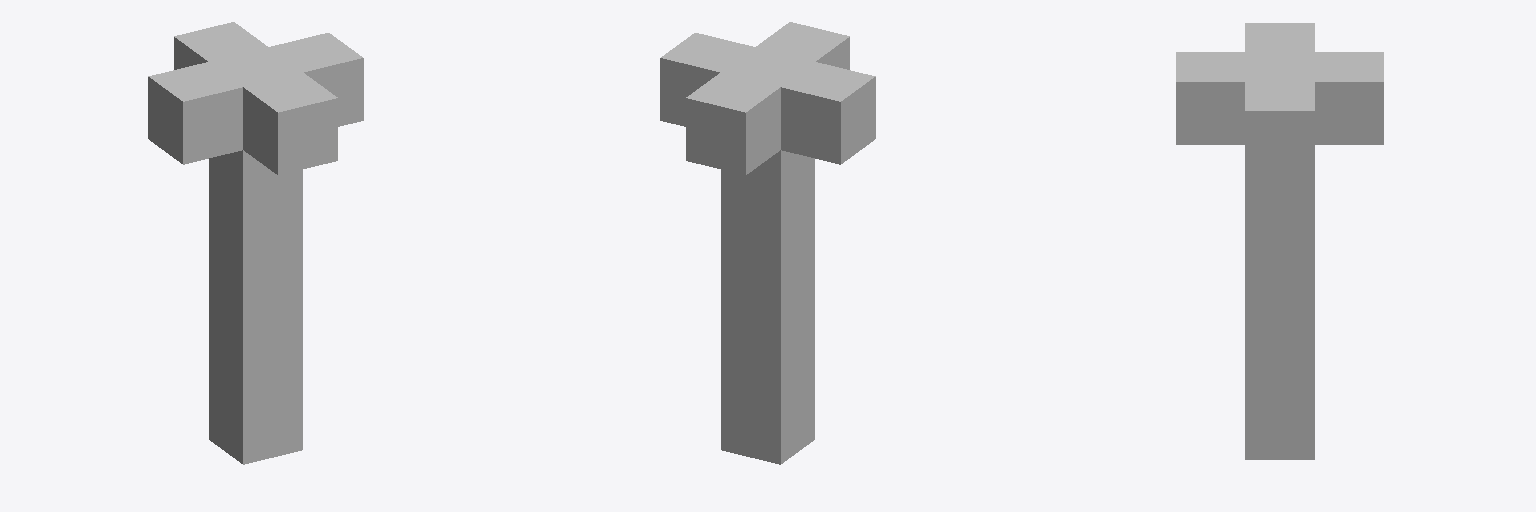
Rendered from (7) Yellow Flowers (Stage 6).obj.
3 renders of one model, left to right at view 1: azimuth 30°, elevation 25°; view 2: azimuth 150°, elevation 25°; view 3: azimuth 270°, elevation 25°, orthographic.
Visible parts, largest first — view 1: object 1; view 2: object 1; view 3: object 1.
Boxes of the visible parts, x1=… form: object 1: x1=148, y1=22, x2=363, y2=464; object 1: x1=660, y1=22, x2=875, y2=464; object 1: x1=1176, y1=23, x2=1383, y2=459.
Size of the model in its own units: 0.3 by 0.6 by 0.3.